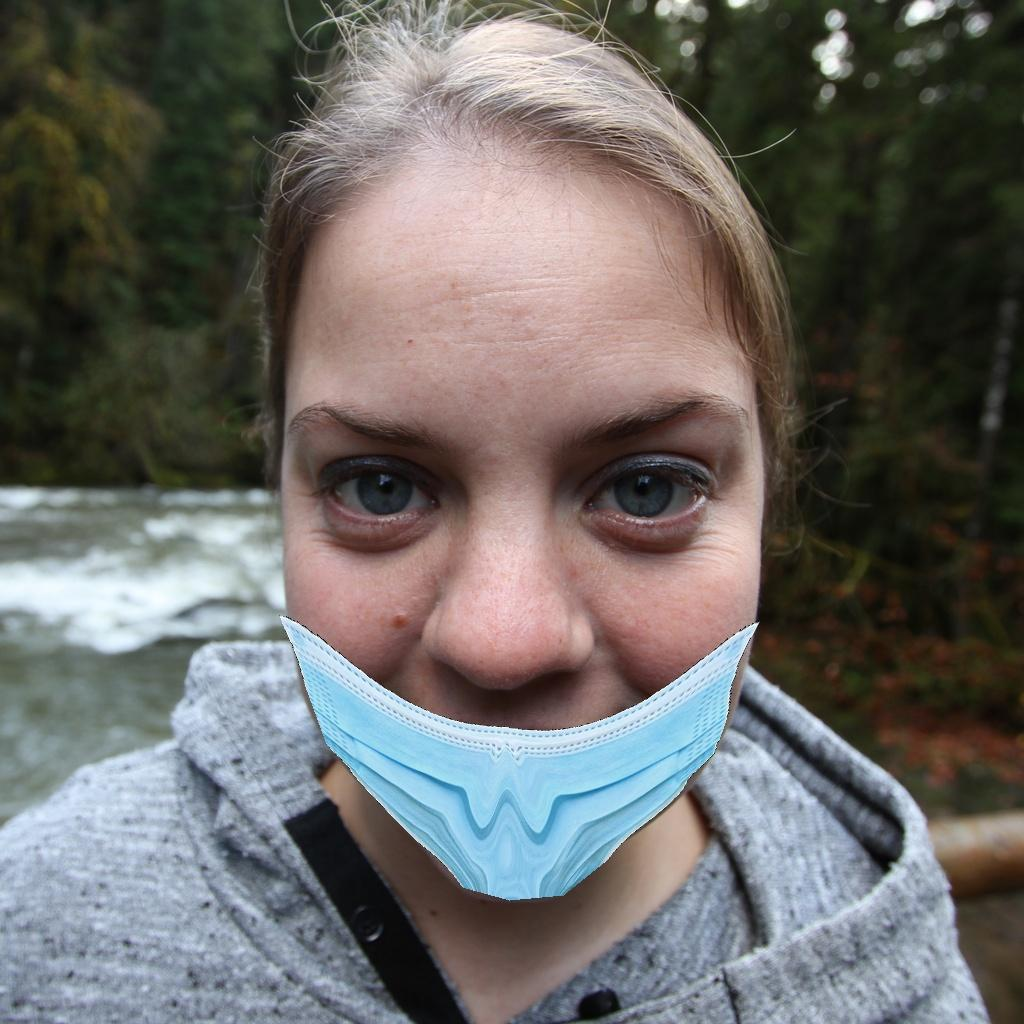Máscara Incorreta: (290, 178, 744, 874)
